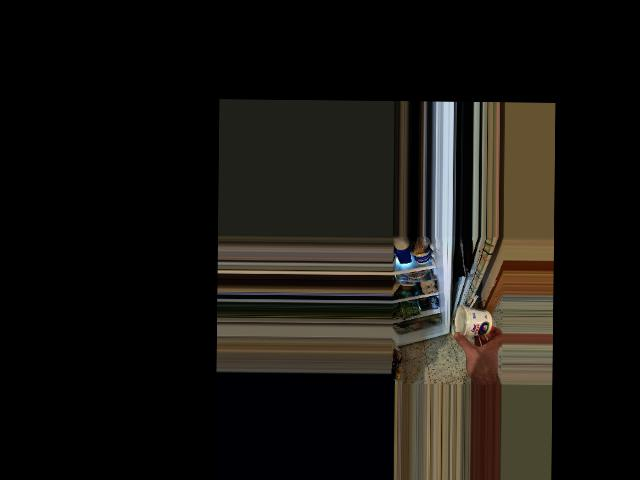cotage: (451, 302, 493, 342)
